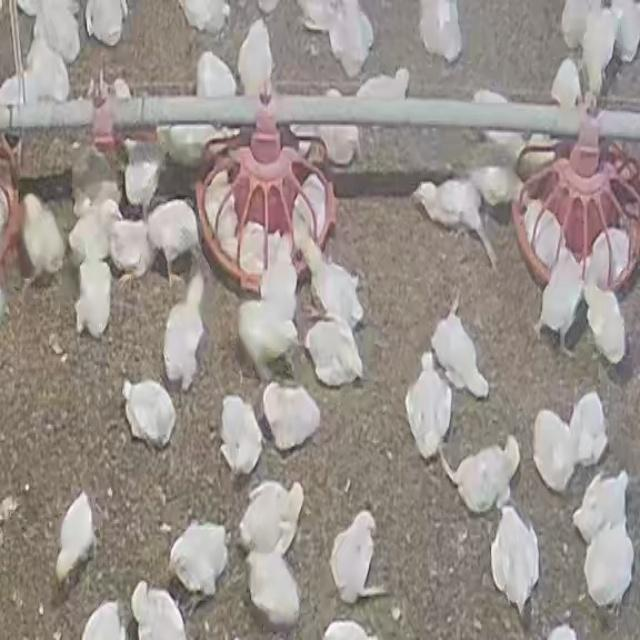chicken: (418, 179, 502, 273), (438, 435, 522, 514), (431, 301, 492, 399), (489, 503, 540, 619), (163, 264, 209, 392), (294, 89, 366, 169), (533, 246, 586, 354), (329, 510, 386, 605), (145, 198, 202, 289), (237, 481, 302, 560), (406, 348, 452, 455), (245, 546, 302, 632), (169, 519, 230, 598), (264, 378, 326, 451), (238, 302, 302, 372), (312, 249, 364, 333), (305, 318, 364, 390), (582, 276, 626, 369), (574, 469, 628, 544), (150, 116, 238, 162), (588, 522, 636, 606), (20, 194, 66, 281), (56, 489, 97, 586), (122, 378, 176, 451), (106, 210, 156, 286), (218, 394, 263, 478), (532, 409, 575, 493), (473, 90, 527, 155), (131, 582, 190, 640), (580, 7, 618, 97), (566, 392, 608, 473), (74, 257, 114, 341), (121, 138, 164, 216), (327, 1, 371, 76), (22, 36, 72, 101), (31, 1, 82, 64), (236, 19, 275, 96), (262, 231, 299, 308), (416, 0, 460, 62), (586, 227, 630, 288), (293, 166, 329, 238), (206, 169, 240, 236), (195, 50, 239, 99), (86, 0, 128, 45), (560, 0, 597, 51), (549, 58, 582, 114), (356, 69, 406, 99)
